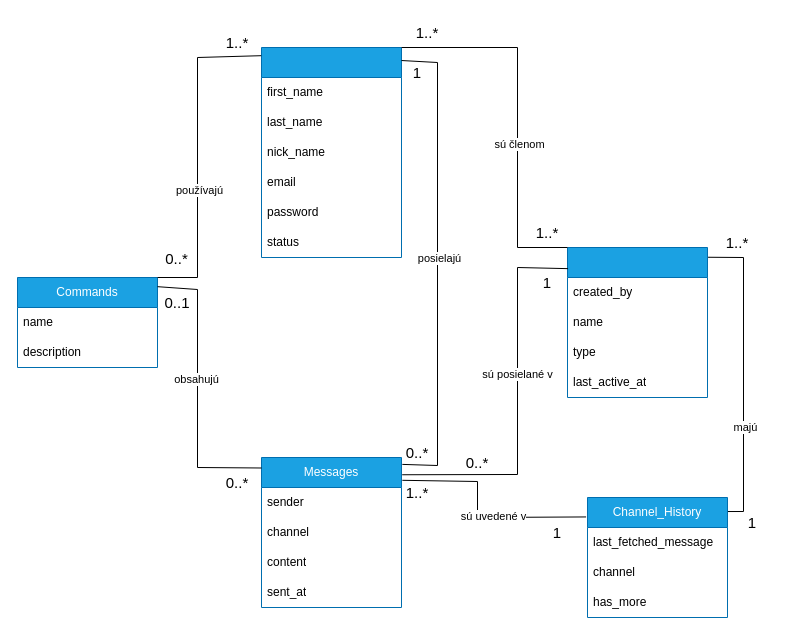
Some shapes in this 785 by 635 pixel diagram are drawn without their labels. Here are the shapes that lost their labels. From the top down, the box of each, then its label:
(260, 46, 402, 258): Users
(566, 246, 708, 398): Channels
